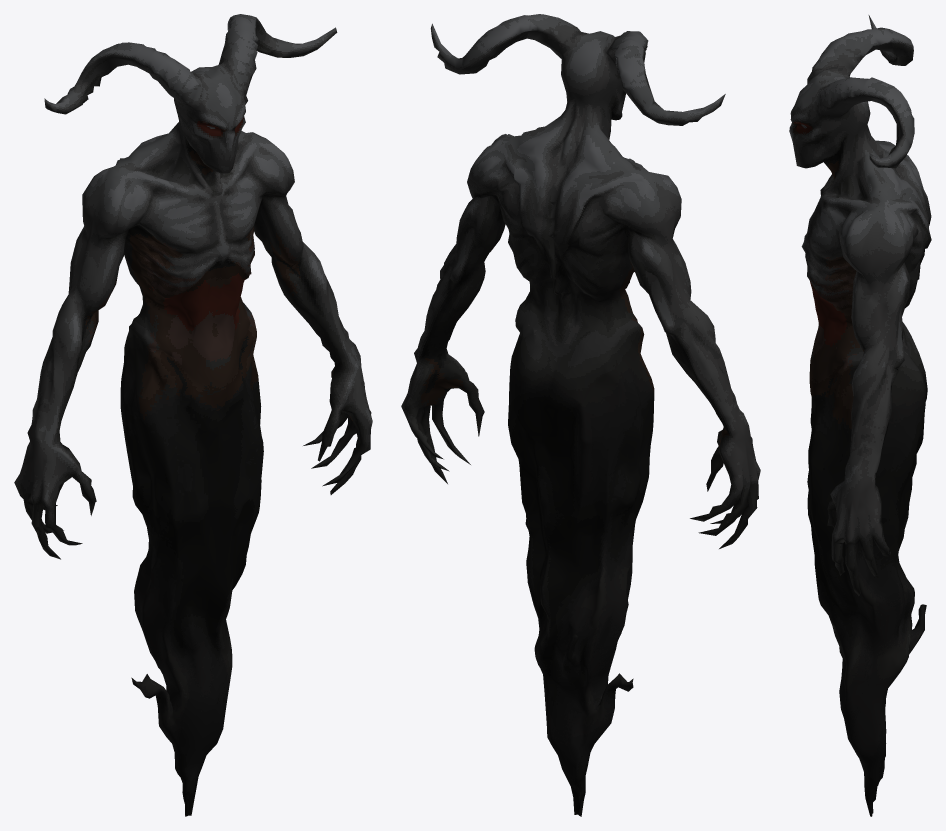
File: wekufe.glb
3 renders of one model, left to right at view 1: azimuth 30°, elevation 25°; view 2: azimuth 150°, elevation 25°; view 3: azimuth 270°, elevation 25°, orthographic. The views are drawn at different scales.
Visible parts, largest first — view 1: tripo_node_71ad0a76-1d35-45cb-a86a-91df723902d9; view 2: tripo_node_71ad0a76-1d35-45cb-a86a-91df723902d9; view 3: tripo_node_71ad0a76-1d35-45cb-a86a-91df723902d9.
Part boxes in pixels (x1=…): tripo_node_71ad0a76-1d35-45cb-a86a-91df723902d9: x1=14, y1=14, x2=372, y2=816; tripo_node_71ad0a76-1d35-45cb-a86a-91df723902d9: x1=401, y1=14, x2=760, y2=816; tripo_node_71ad0a76-1d35-45cb-a86a-91df723902d9: x1=789, y1=15, x2=931, y2=816.
Bounding box in the file's own units: 0.4544 × 1 × 0.1693.
1 material, 1 textured.
